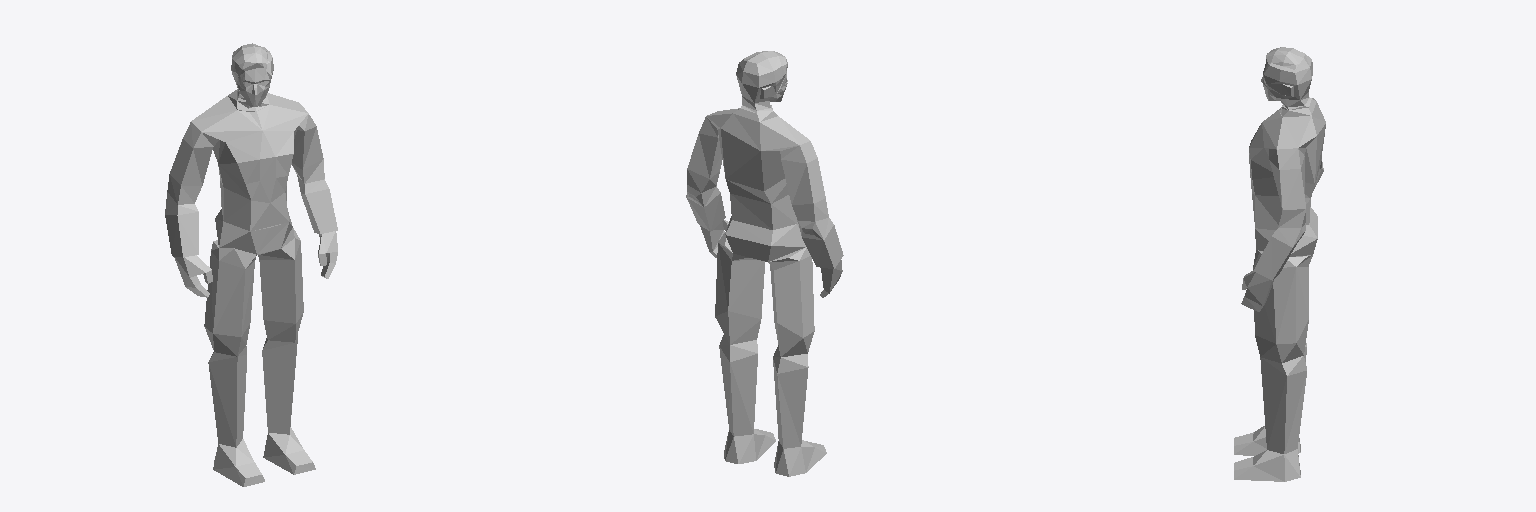
File: Manuel109.obj
3 views of the same model, side by side, from view 1: azimuth 30°, elevation 25°; view 2: azimuth 150°, elevation 25°; view 3: azimuth 270°, elevation 25° (orthographic).
Parts seen in each view (by area): view 1: leon; view 2: leon; view 3: leon.
Part boxes in pixels (bbox=[...]): leon: bbox=[165, 43, 337, 486]; leon: bbox=[686, 51, 843, 476]; leon: bbox=[1234, 47, 1325, 481].
Size of the model in its own units: 4.66 by 12.19 by 2.49.